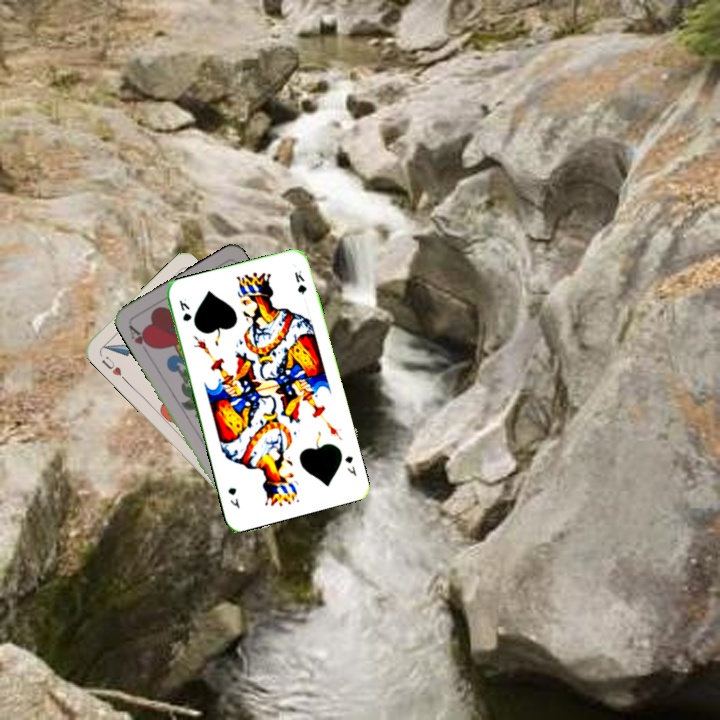GK: (175, 296, 194, 324), (341, 452, 359, 479)
HA: (125, 321, 156, 357)
HU: (98, 353, 127, 382)
